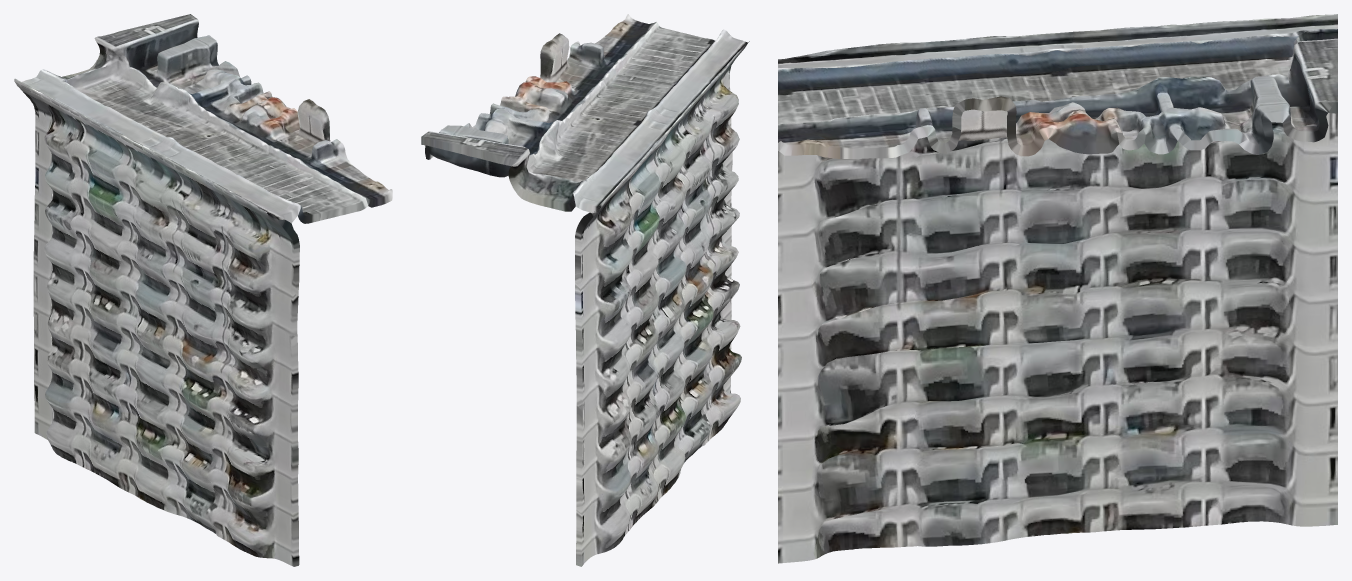
Rendered from z20-167779-405216-h1-yup-uvflip-v3-world.glb.
3 renders of one model, left to right at view 1: azimuth 30°, elevation 25°; view 2: azimuth 150°, elevation 25°; view 3: azimuth 270°, elevation 25°, orthographic. The views are drawn at different scales.
Size of the model in its own units: 15.28 by 31.76 by 30.32.
Materials: 1 (1 with a texture image).
